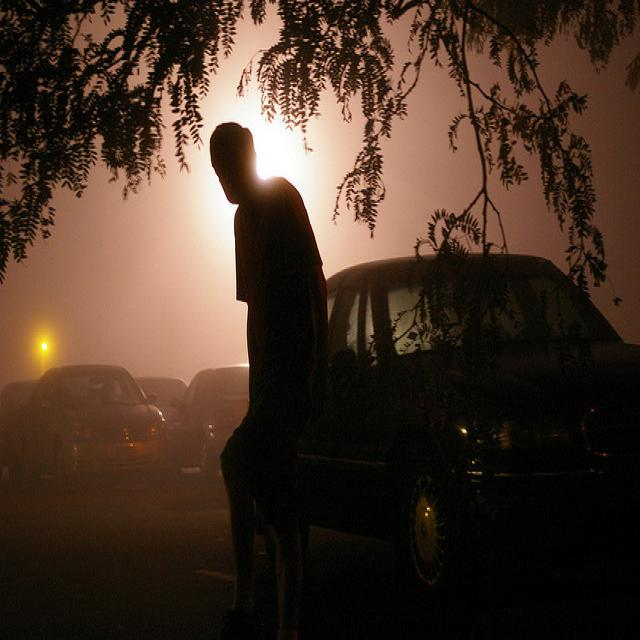Car: (307, 225, 640, 595), (23, 351, 248, 527)
